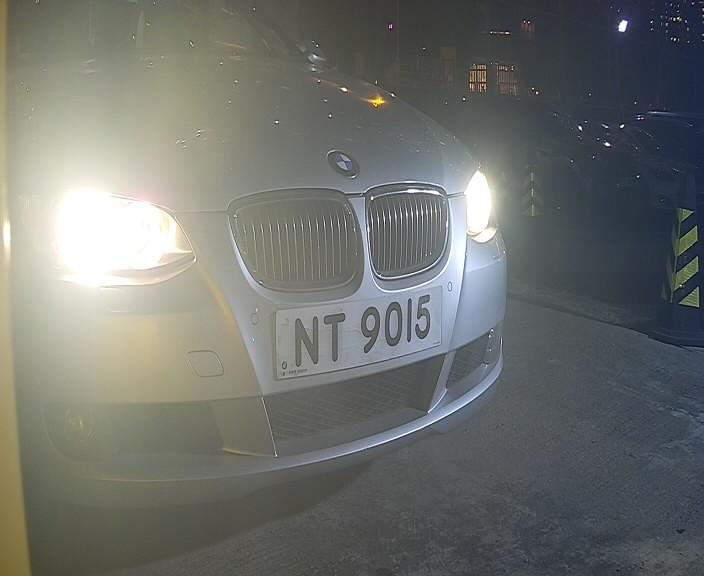privatecar: (23, 6, 510, 520)
